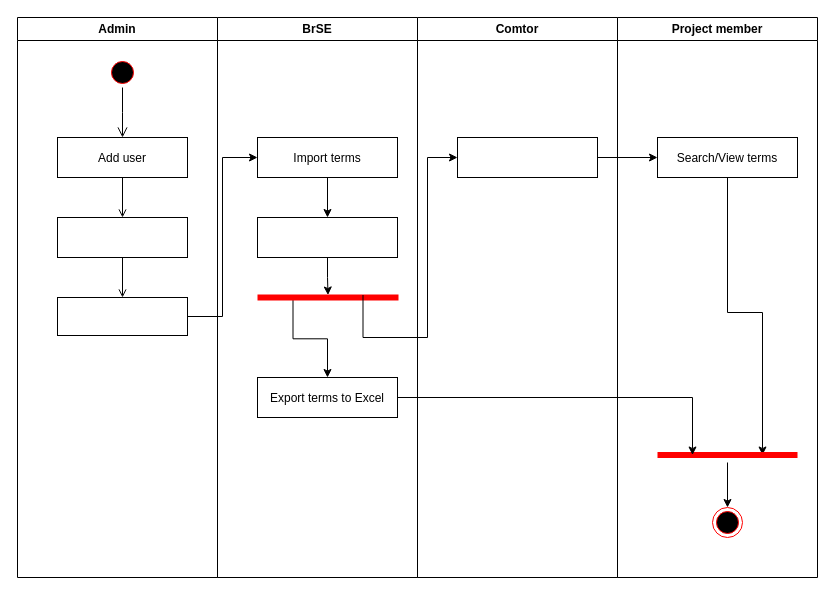
Some shapes in this 835 by 595 pixel diagram are drawn without their labels. Each missing label, with the centre of its shape:
Add/Update terms: (x=327, y=237)
Assign user to project: (x=122, y=316)
Create Project: (x=122, y=237)
Translate terms: (x=527, y=157)
